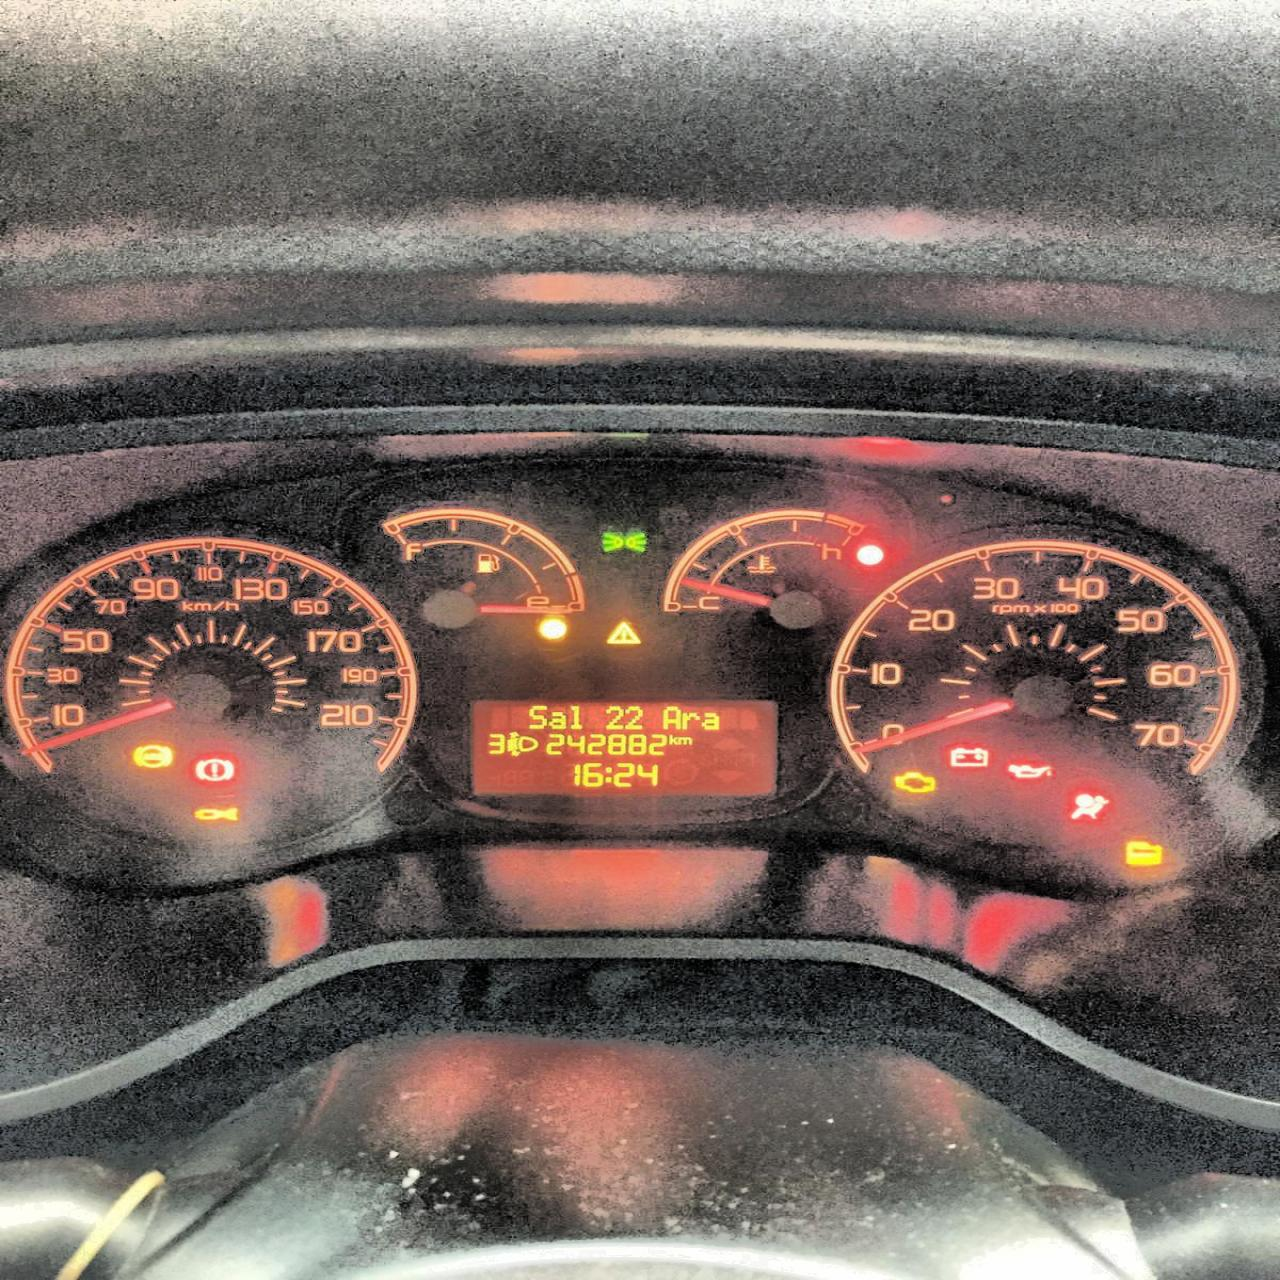1: (571, 761, 580, 789)
2: (613, 761, 635, 790), (607, 703, 625, 730), (545, 731, 564, 756), (647, 731, 666, 755), (625, 704, 642, 729), (586, 731, 604, 755)
3: (485, 730, 505, 756)
4: (636, 761, 659, 788), (566, 731, 584, 755)
6: (581, 760, 602, 788)
8: (607, 731, 626, 755), (627, 733, 647, 754)
X: (662, 704, 681, 730), (527, 703, 545, 729), (700, 709, 720, 730), (681, 709, 700, 730), (570, 702, 583, 729), (549, 710, 566, 729), (602, 765, 612, 784), (678, 735, 693, 745), (669, 733, 678, 745)
odometer: (467, 695, 781, 798)
